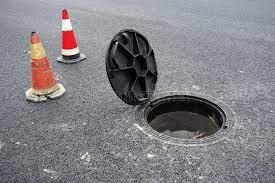open manhole-not overflowing-: (105, 27, 237, 147)
